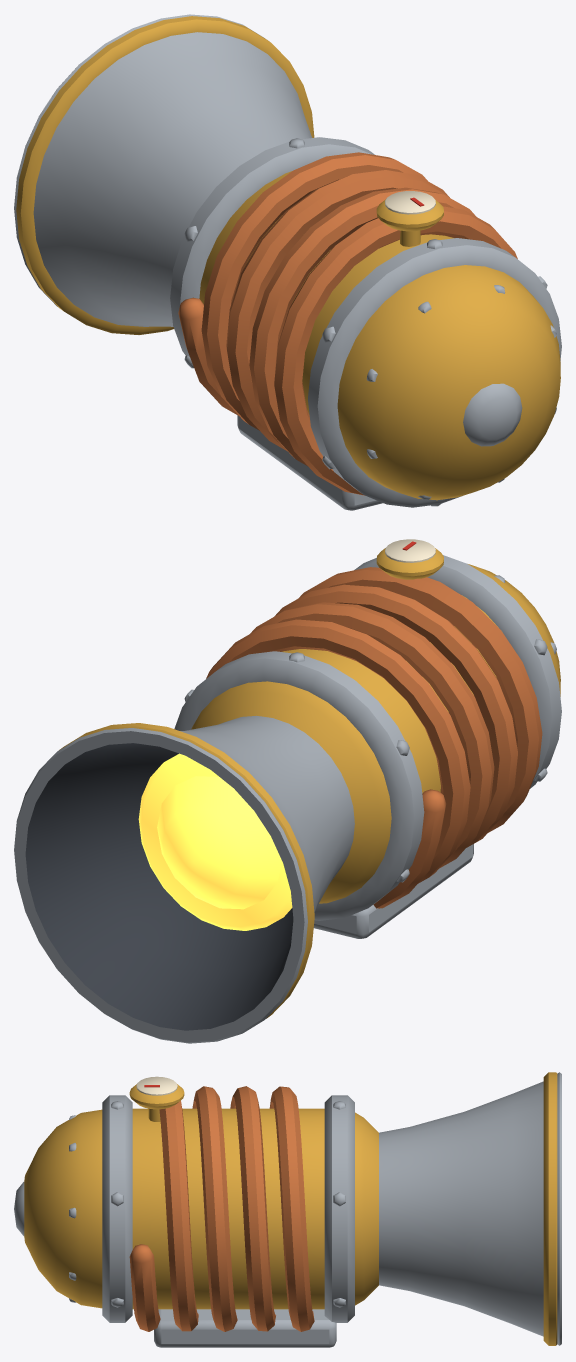
Rendered from part_thruster.glb.
3 renders of one model, top to bottom at view 1: azimuth 30°, elevation 25°; view 2: azimuth 150°, elevation 25°; view 3: azimuth 270°, elevation 25°, orthographic. The views are drawn at different scales.
Parts seen in each view (by area): view 1: Thruster; view 2: Thruster; view 3: Thruster.
Boxes of the visible parts, x1=… form: Thruster: x1=14, y1=14, x2=561, y2=510; Thruster: x1=14, y1=539, x2=561, y2=1043; Thruster: x1=14, y1=1072, x2=561, y2=1347.
Bounding box in the file's own units: 0.45 × 0.451 × 0.9.
